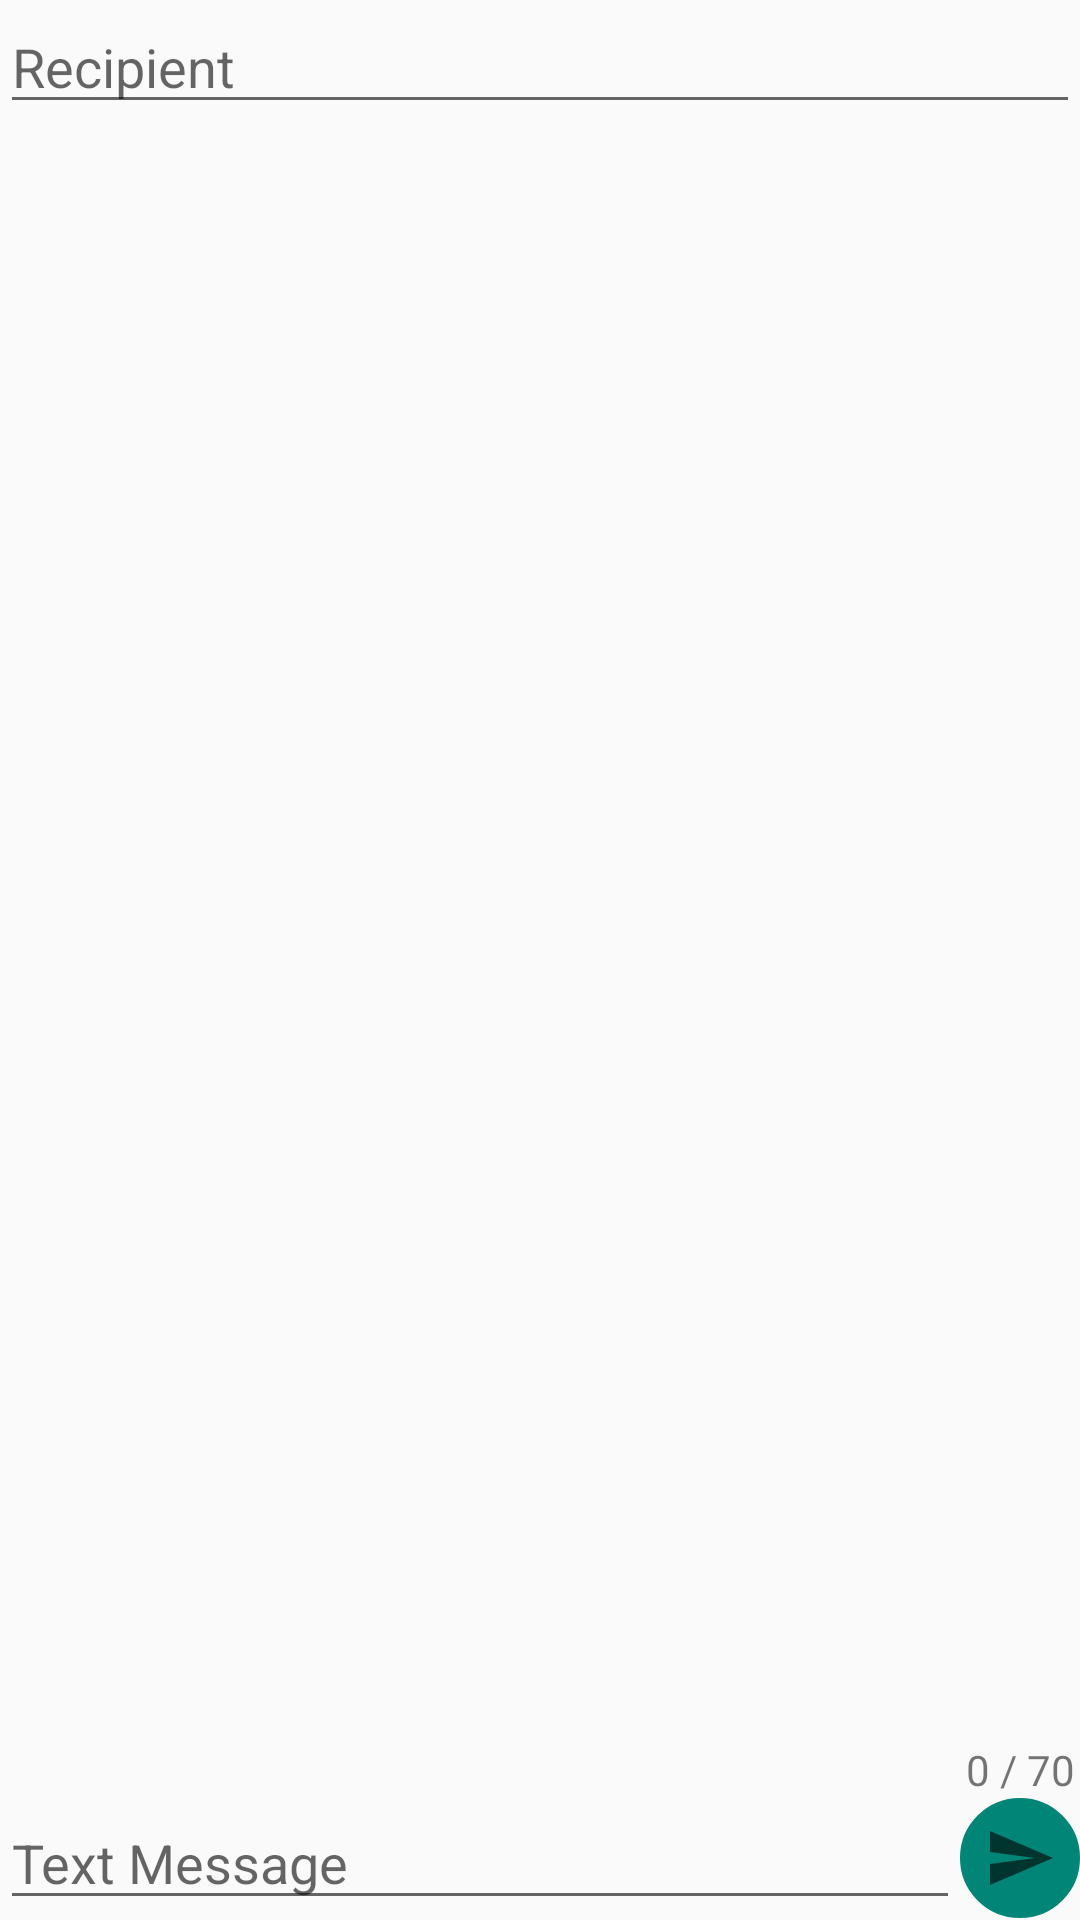

Screen size 1080 × 1920. Icon name, then its box in pixels as (x1, y1, x2, y2):
send: (960, 1798, 1080, 1918)
